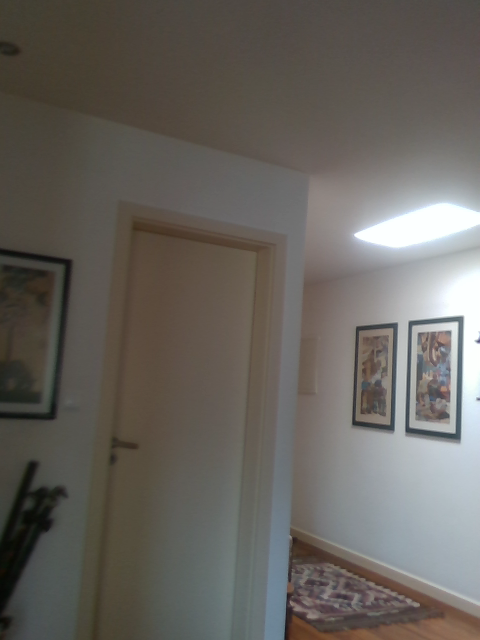closed: (76, 202, 291, 639)
